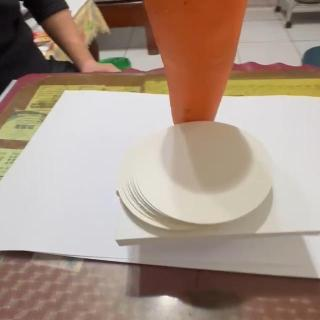carrot: (140, 0, 252, 124)
